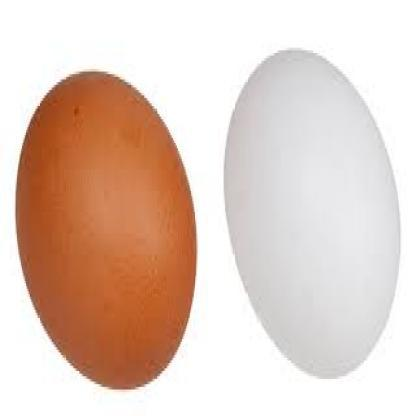egg: (13, 68, 198, 396), (223, 46, 404, 381)
